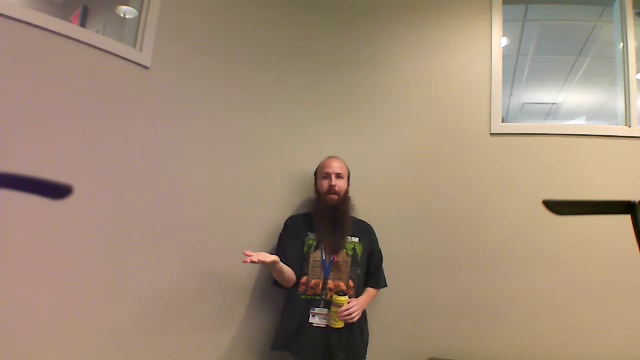land: (233, 239, 285, 275)
